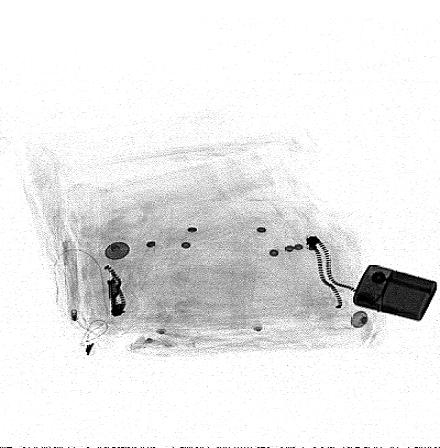Lighter: (352, 265, 438, 322)
